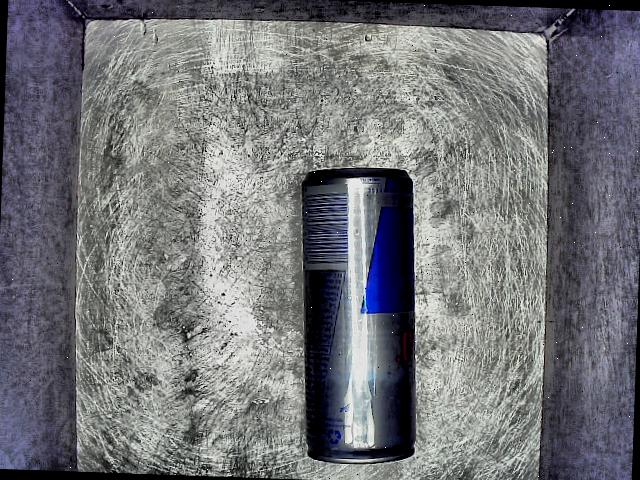Bottles: (268, 148, 444, 464)
